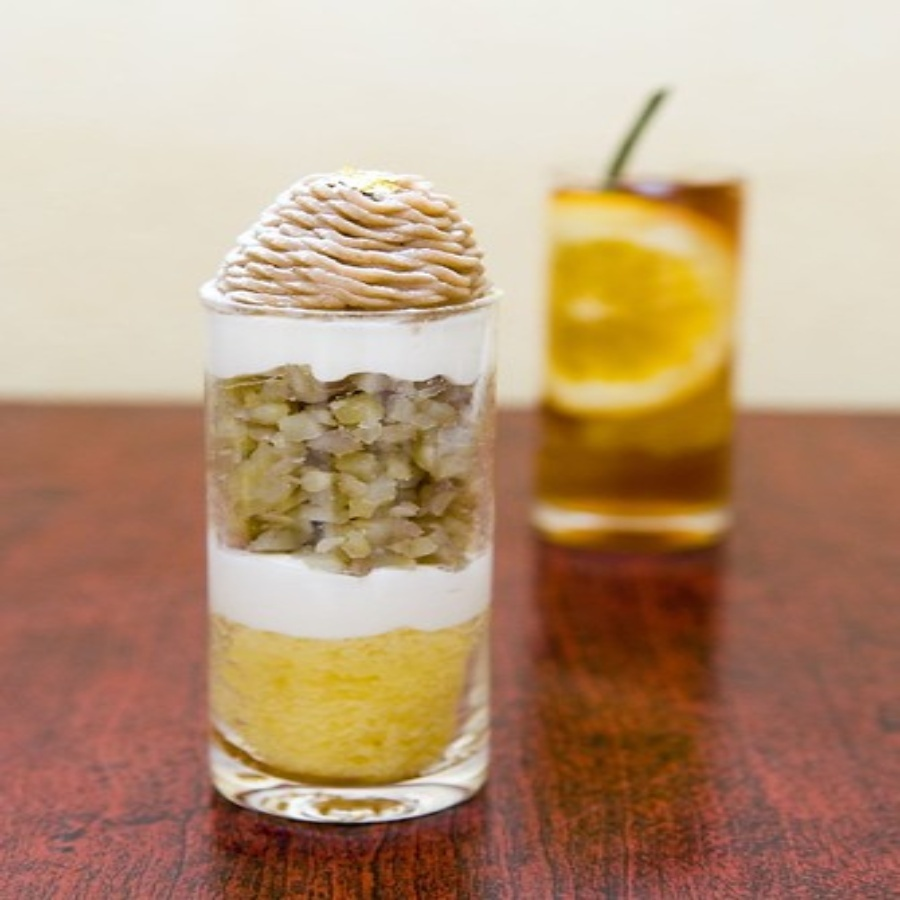whiskey: (190, 281, 504, 824), (522, 174, 744, 558)
